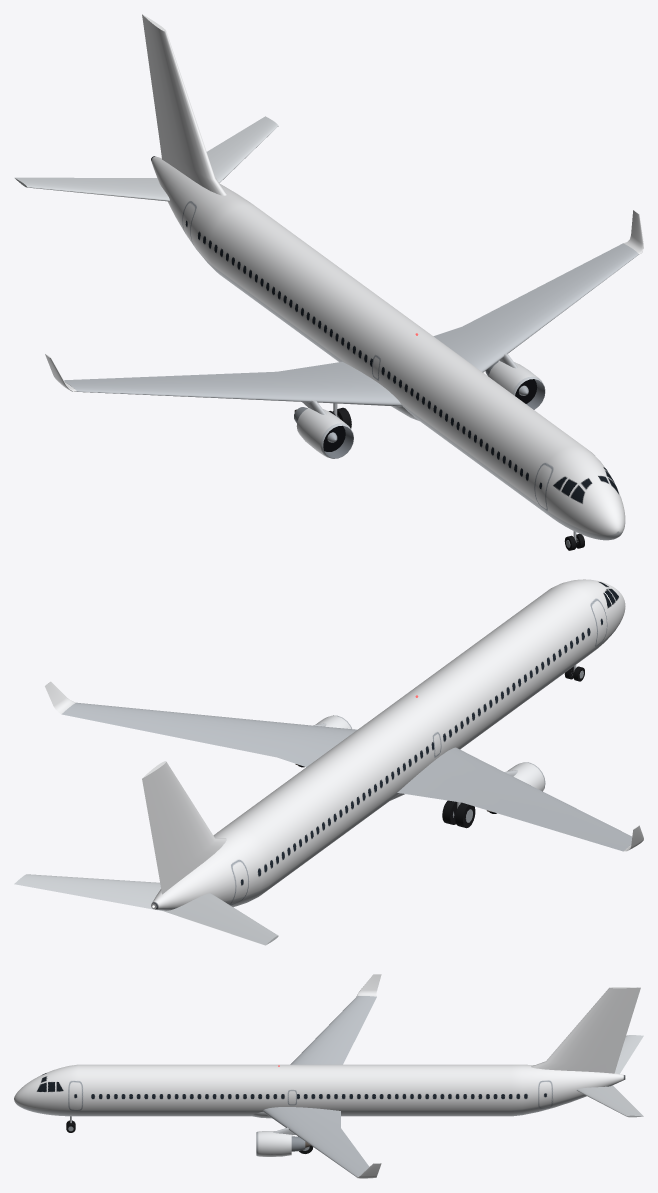
The picture shows the model from 3 angles, top to bottom: view 1: azimuth 30°, elevation 25°; view 2: azimuth 150°, elevation 25°; view 3: azimuth 270°, elevation 25°; orthographic projection. The views are drawn at different scales.
Parts seen in each view (by area): view 1: body; view 2: body, gear; view 3: body.
Boxes of the visible parts, left/top/right/bottom form: body: left=14, top=14, right=643, bottom=540; body: left=14, top=579, right=643, bottom=945; gear: left=442, top=665, right=584, bottom=828; body: left=14, top=974, right=643, bottom=1178.
Size of the model in its own units: 28.32 by 10 by 39.82.
19 materials, 1 textured.
